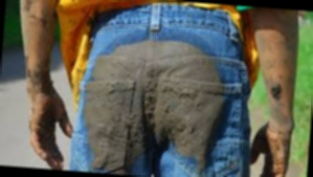earth: (91, 57, 212, 146), (119, 42, 201, 64), (100, 144, 136, 168)
